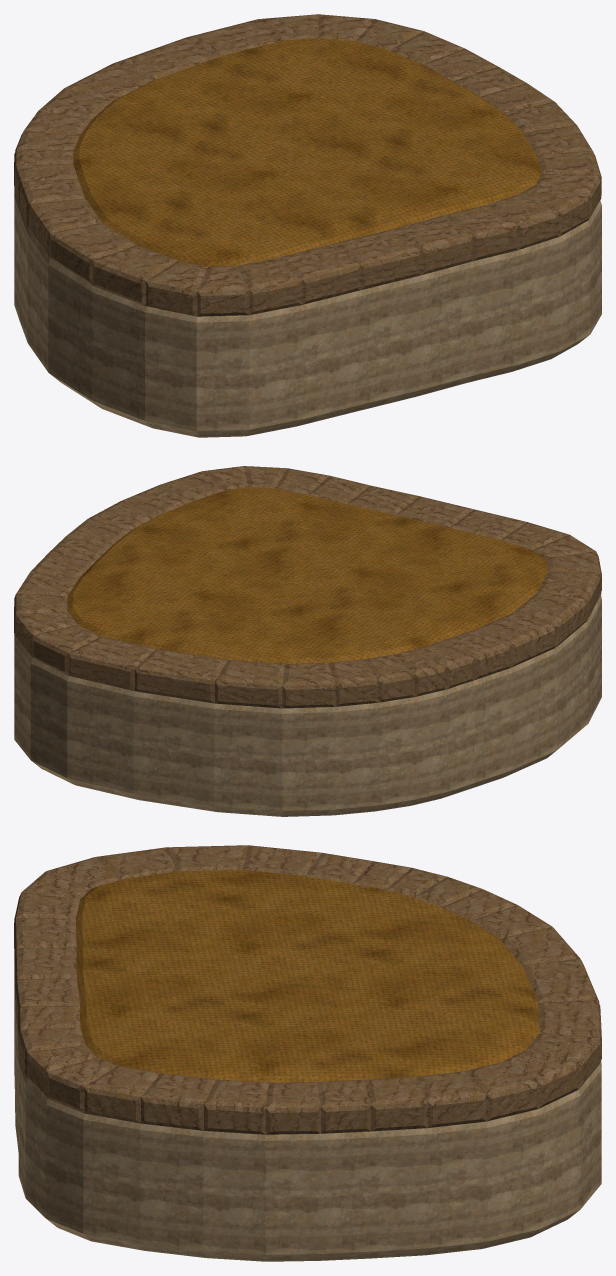
The model's file is SlideLightStart.fbx.
The picture shows the model from 3 angles, top to bottom: view 1: azimuth 30°, elevation 25°; view 2: azimuth 150°, elevation 25°; view 3: azimuth 270°, elevation 25°; orthographic projection. The views are drawn at different scales.
Parts seen in each view (by area): view 1: Circle.001, Circle.000, Circle.002; view 2: Circle.000, Circle.001, Circle.002; view 3: Circle.001, Circle.000, Circle.002.
Boxes of the visible parts, x1,y1,x2,y2 form: Circle.001: (73,38,541,266); Circle.000: (14,187,601,437); Circle.002: (14,14,601,316); Circle.000: (14,595,601,816); Circle.001: (67,487,548,663); Circle.002: (14,466,601,708); Circle.001: (76,869,539,1082); Circle.000: (14,962,601,1261); Circle.002: (14,845,601,1134).
Size of the model in its own units: 166020 by 48432 by 155806.
Materials: 3 (3 with a texture image).
